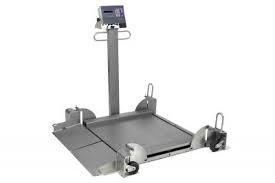Industrial Scale: (54, 5, 228, 178)
